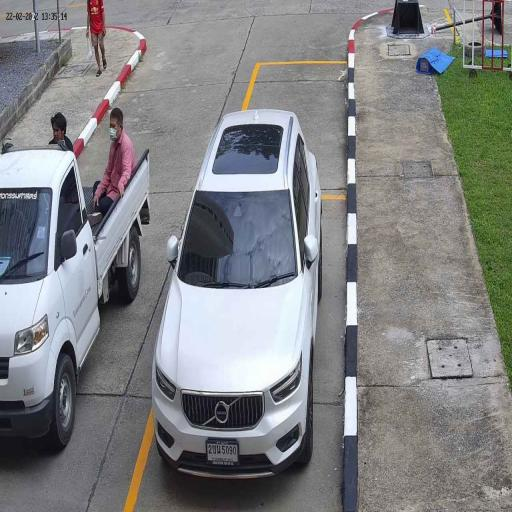car: (152, 107, 324, 483), (0, 142, 151, 448)
